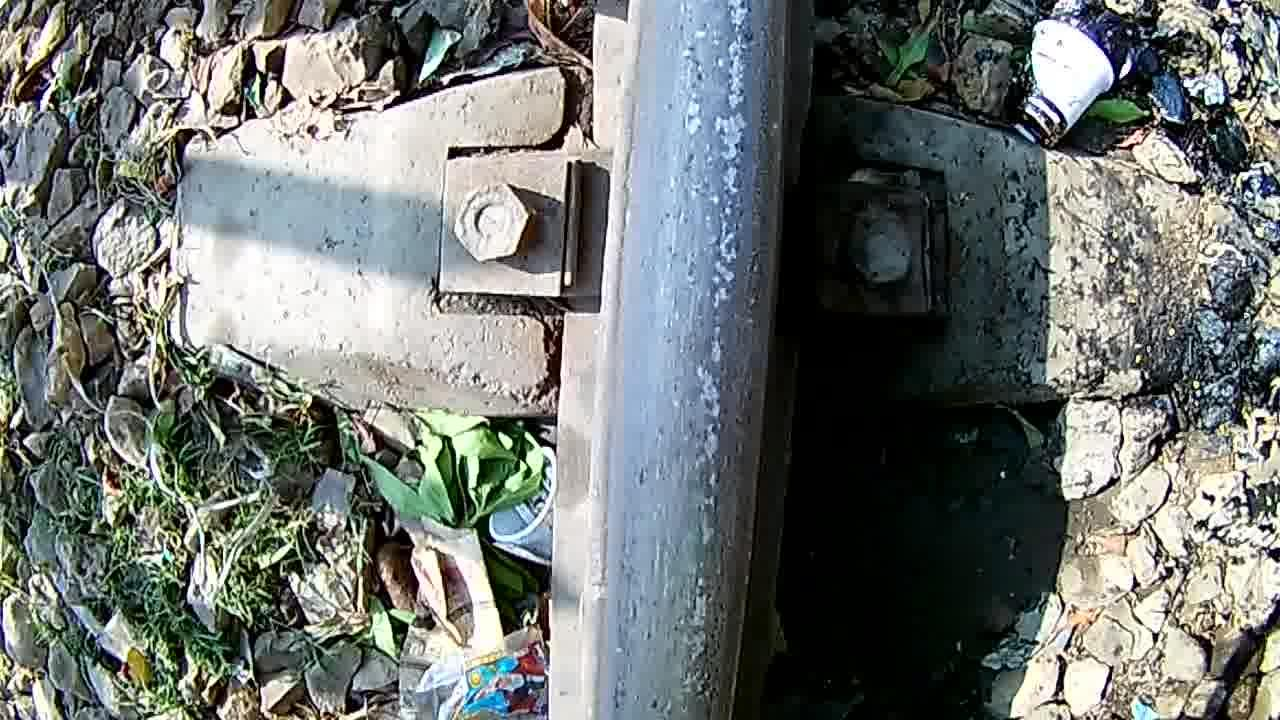clip_missing: (584, 1, 798, 720)
